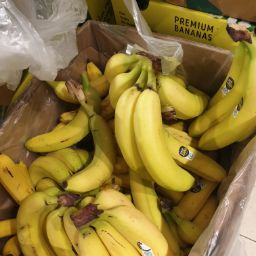Bannana: (48, 57, 256, 174), (87, 45, 206, 211), (30, 67, 128, 223), (1, 145, 110, 256), (196, 12, 256, 162), (96, 188, 192, 256)
